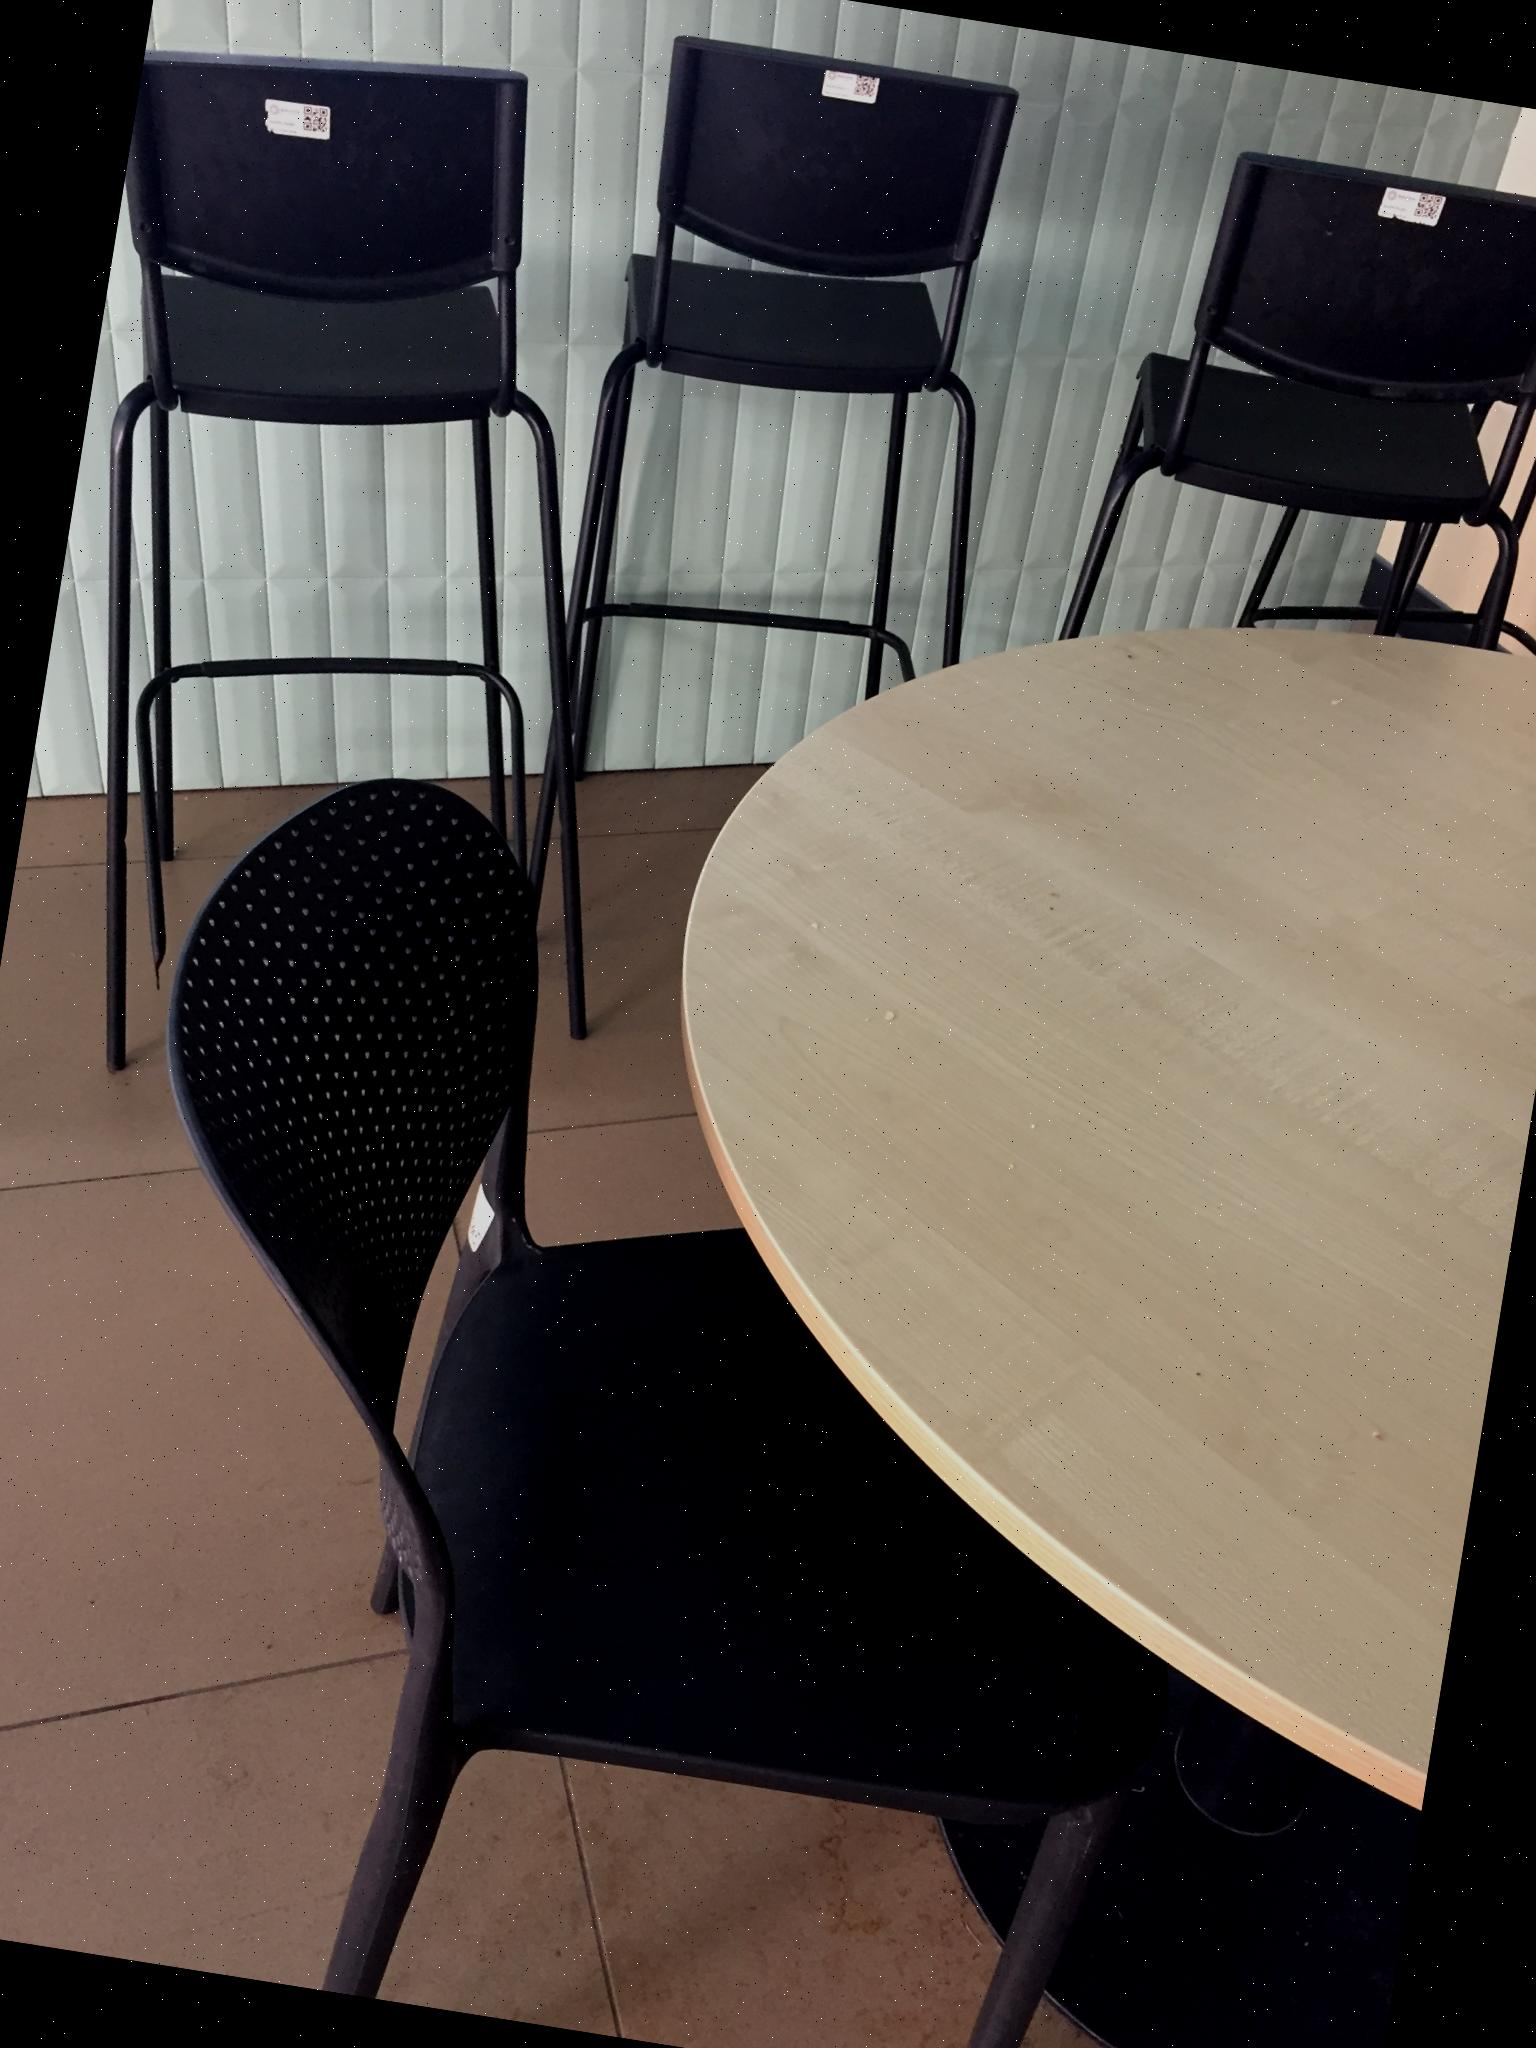chair: (15, 742, 1296, 2048), (0, 11, 737, 1145), (547, 24, 1105, 842), (1054, 127, 1536, 718), (1409, 110, 1536, 651)
